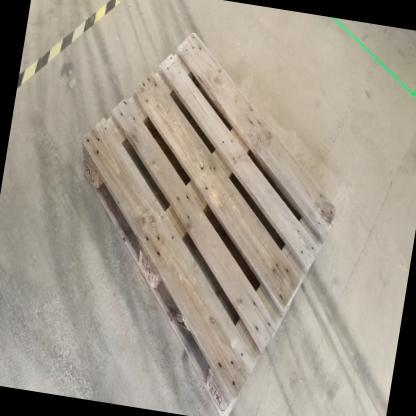BoxFace: (77, 23, 344, 416)
